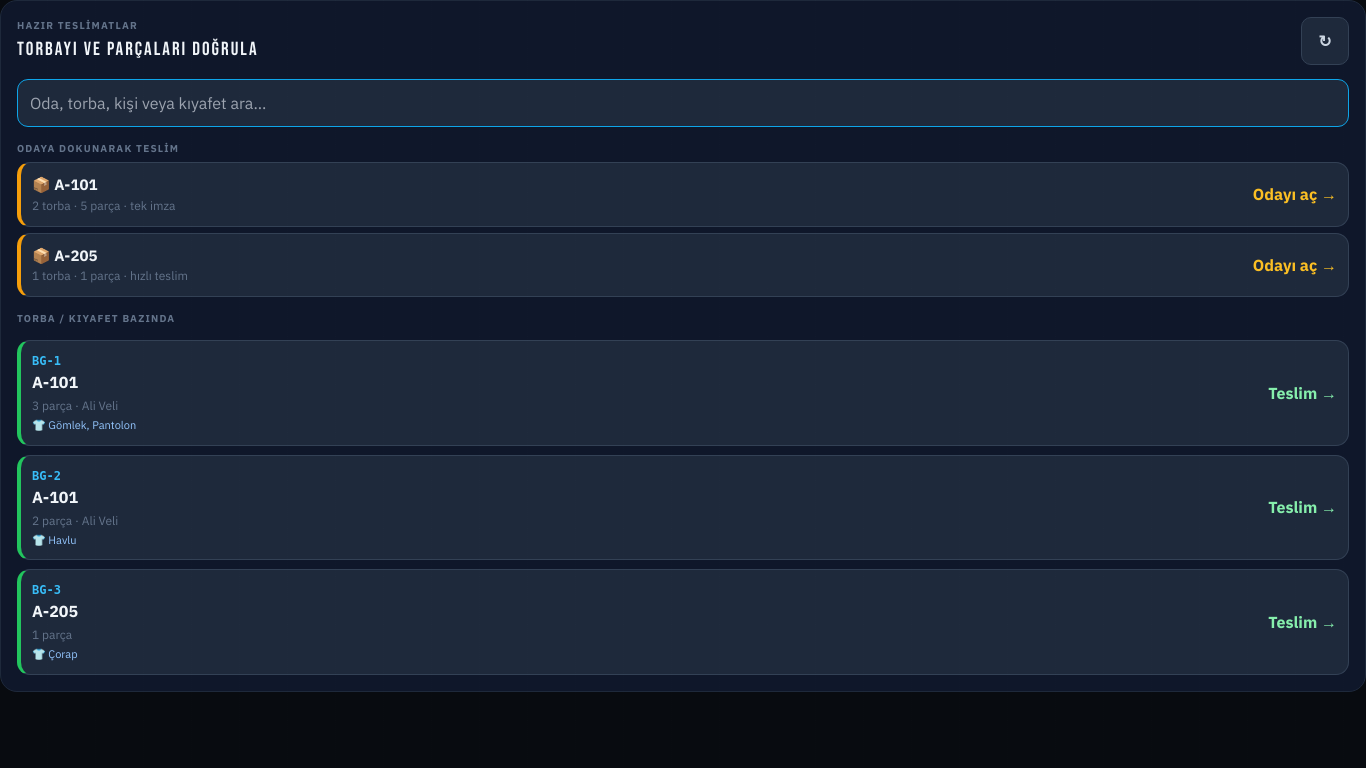
oda bazlı toplu teslim › oda, torba, kişi ve kıyafet adına göre arar
In the search field named "Teslimatlarda ara": coordinates (683, 103) [17,79,1349,127], type "Çorap"
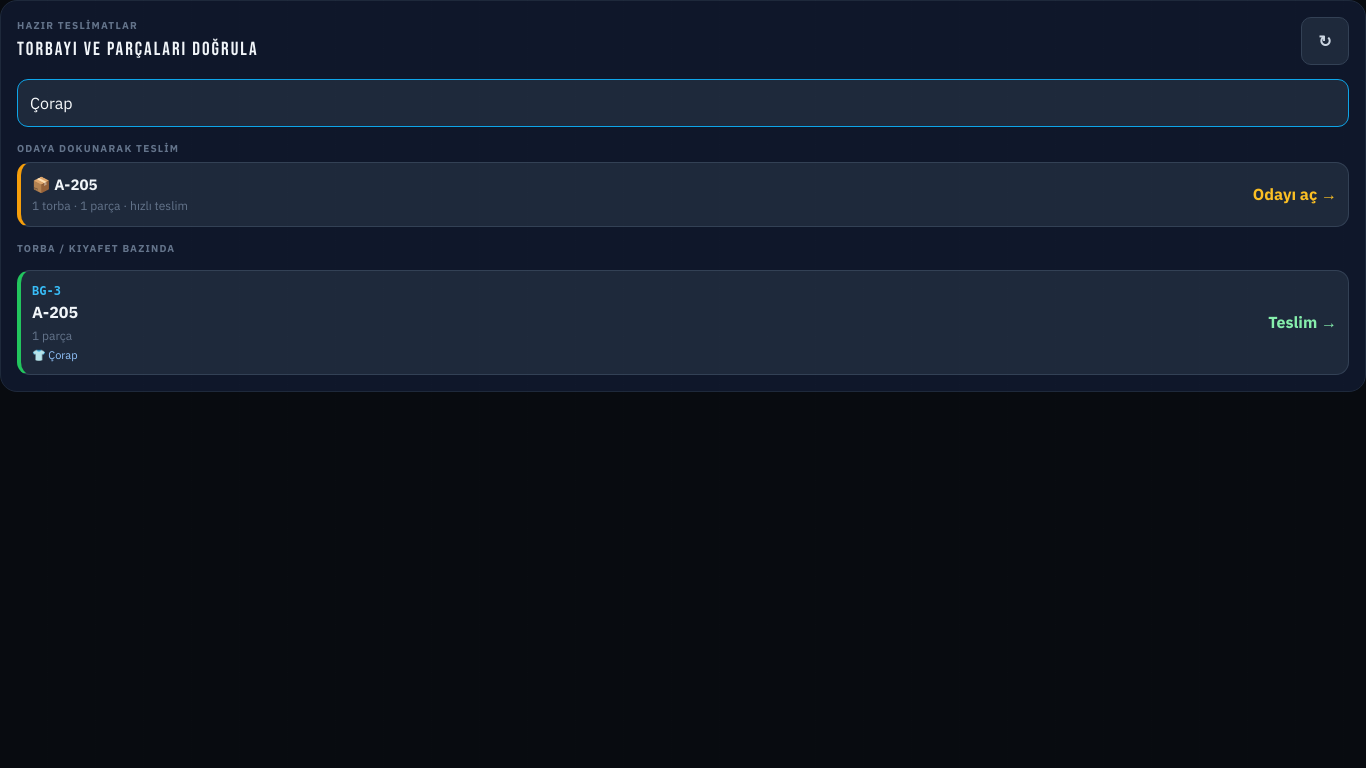
Expected: the text "BG-3" is shown, [32,284,61,298]
Result: the button "BG-1" is gone
